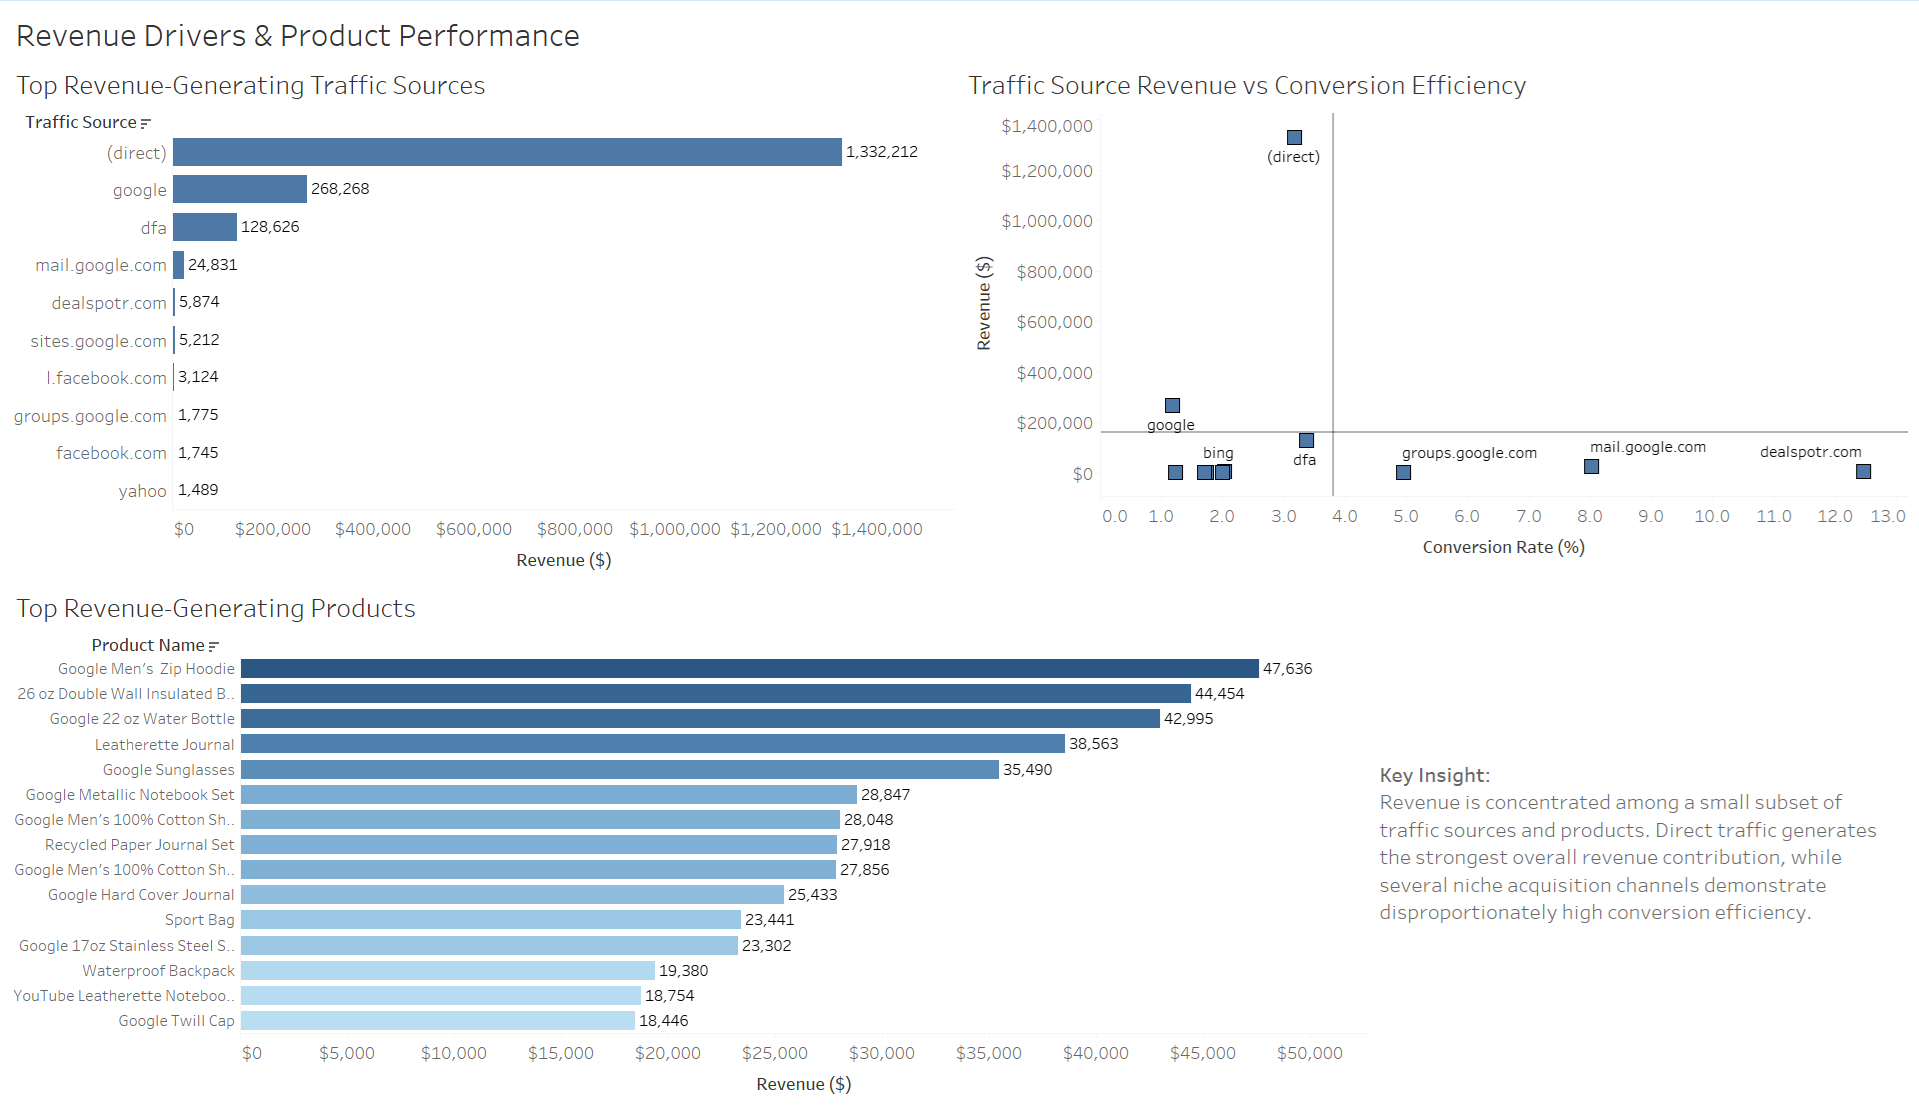

The page's visual inventory and layout, read from the dashboard file:
{"tool":"tableau","page":{"name":"02_Revenue_Dashboard","canvas":[1000,1000],"units":"permille","ordinal":1},"visuals":[{"type":"title","box":[4.8,8.7,990.3,54.3]},{"type":"worksheet","title":"03_Traffic_Source_Revenue","mark":"Automatic","rows":["traffic_source"],"cols":["total_revenue"],"box":[4.8,63,495.2,464.1]},{"type":"worksheet","title":"04_Traffic_Conversion_Scatter","mark":"Square","rows":["total_revenue"],"cols":["conversion_rate_pct"],"box":[500,63,495.2,464.1]},{"type":"worksheet","title":"06_Product_Revenue","mark":"Automatic","rows":["product_name"],"cols":["total_revenue"],"box":[4.8,527.1,709.7,464.2]},{"type":"text","box":[714.5,527.1,280.7,464.2]}]}

Visuals, with their boxes on the dashboard's canvas, which has no fixed pixel size, in thousandths of its width and height (x1, y1, x2, y2). These are canvas units, not pixel positions in the 1919x1113 screenshot, which may show the page scaled, cropped or inside an application window:
title: (5,9,995,63)
"03_Traffic_Source_Revenue" worksheet: (5,63,500,527)
"04_Traffic_Conversion_Scatter" worksheet (Square marks): (500,63,995,527)
"06_Product_Revenue" worksheet: (5,527,714,991)
text: (714,527,995,991)
